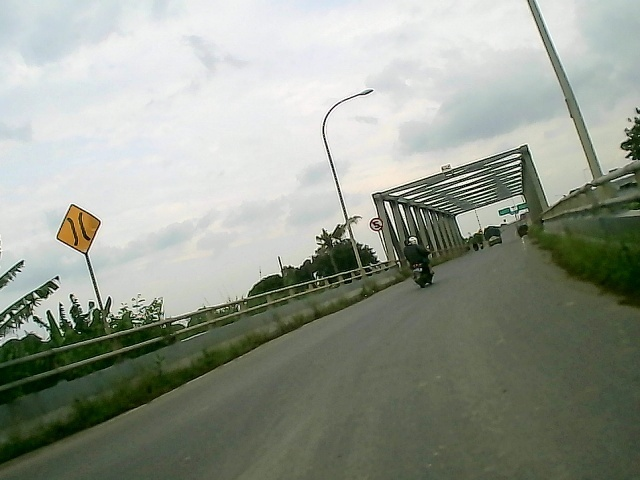Jembatan: (54, 202, 103, 255)
